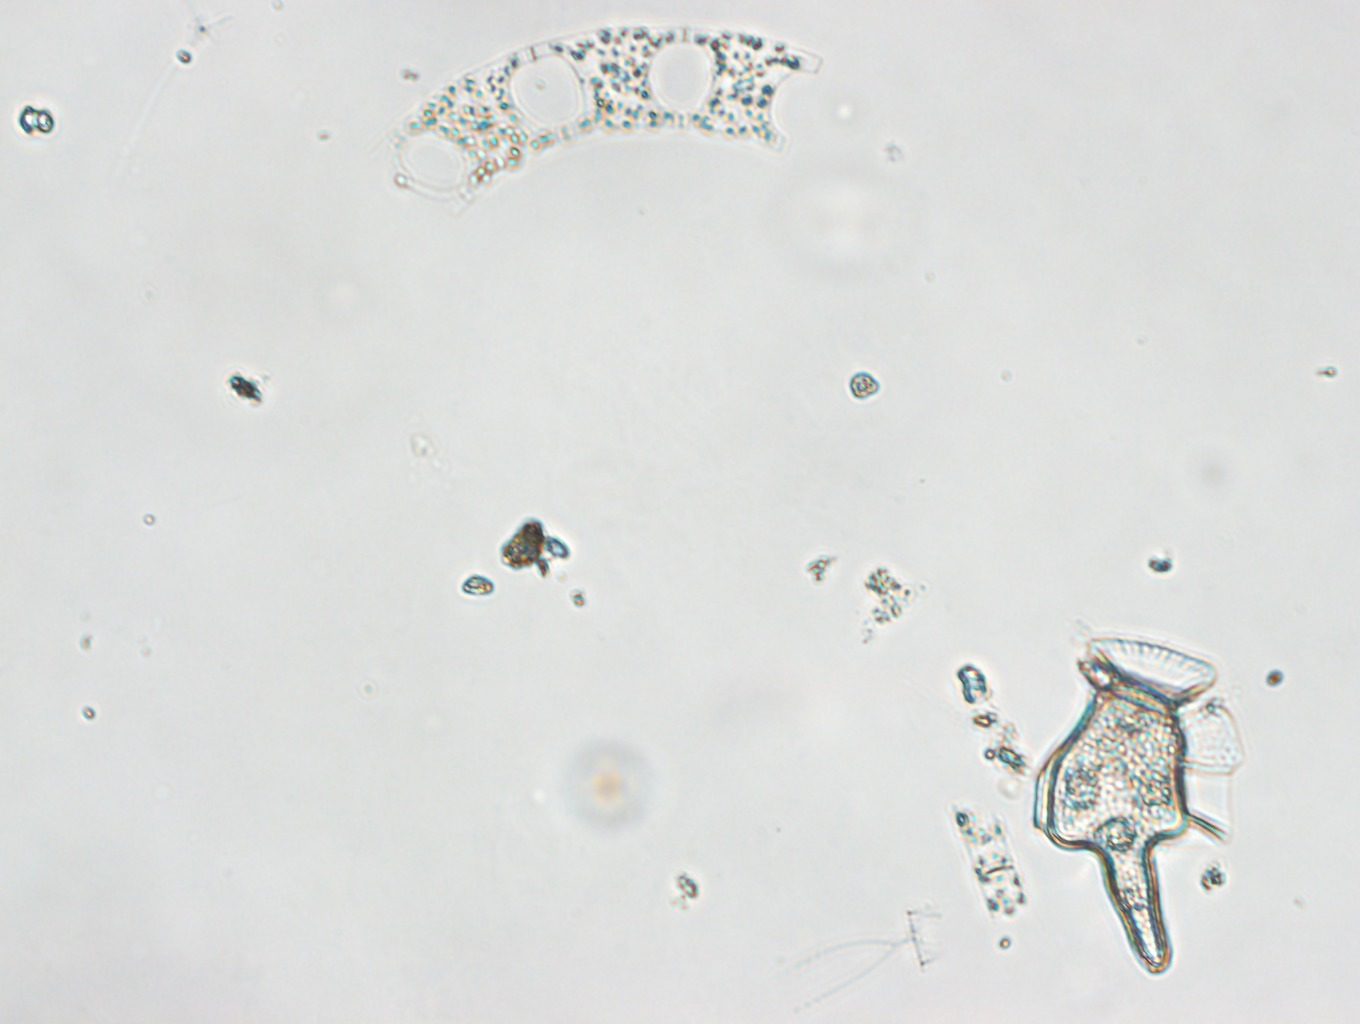dinophysis caudata: (1028, 625, 1246, 973)
eucampia: (366, 29, 824, 250)
